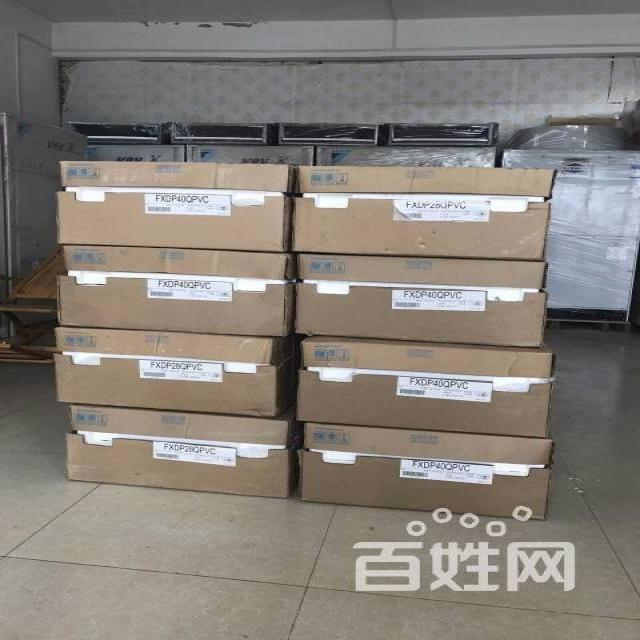box: (297, 338, 550, 439), (300, 423, 553, 520), (292, 167, 556, 259), (293, 254, 545, 349), (67, 403, 298, 499), (60, 163, 297, 253), (54, 327, 291, 417), (56, 247, 292, 337)
